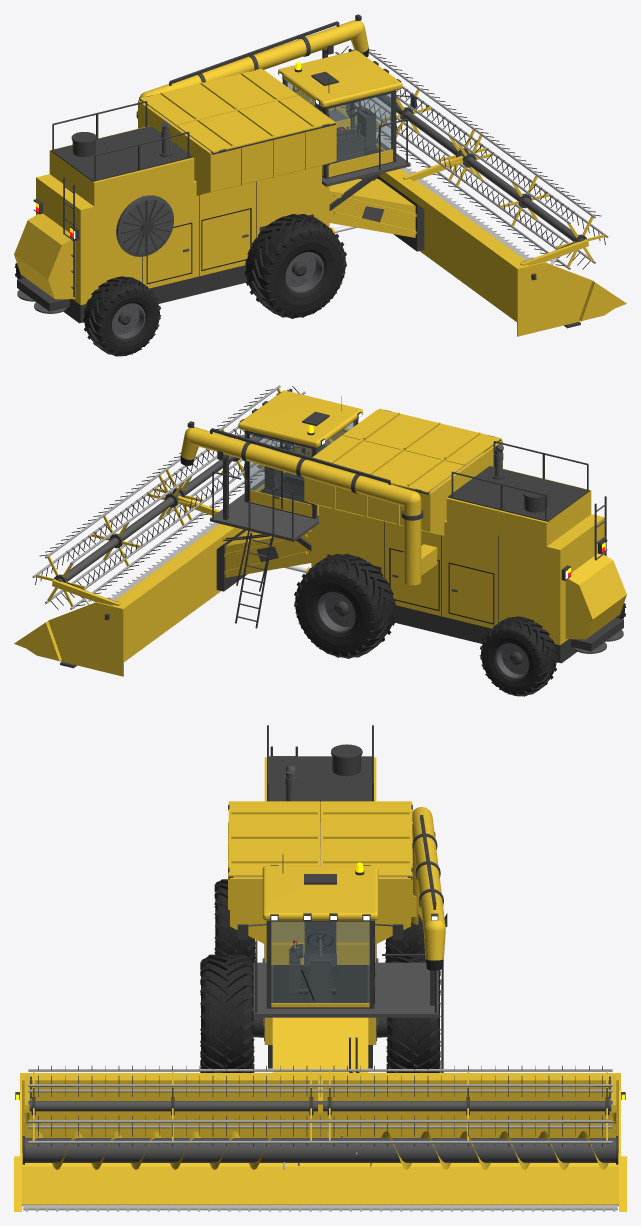
File: combine_harvester.glb
3 views of the same model, one above another, from view 1: azimuth 30°, elevation 25°; view 2: azimuth 150°, elevation 25°; view 3: azimuth 270°, elevation 25° (orthographic). The views are drawn at different scales.
Parts seen in each view (by area): view 1: chassis, header_tilt, cab, reel_spin, wheel_front_right_spin, grain_tank, wheel_rear_right_spin, grain_tank_lid_right_tilt, grain_tank_lid_left_tilt, unload_auger_rotate, reel_arm_tilt; view 2: chassis, header_tilt, cab, reel_spin, wheel_front_left_spin, grain_tank, unload_auger_rotate, wheel_rear_left_spin, grain_tank_lid_right_tilt, grain_tank_lid_left_tilt, reel_arm_tilt; view 3: header_tilt, cab, reel_spin, chassis, grain_tank_lid_right_tilt, grain_tank_lid_left_tilt, wheel_front_right_spin, grain_tank, unload_auger_rotate, wheel_front_left_spin, wheel_rear_right_spin, wheel_rear_left_spin (+1 smaller).
Boxes of the visible parts, <box> form: chassis: <box>14,45,333,323</box>; header_tilt: <box>298,93,626,336</box>; cab: <box>278,48,416,210</box>; reel_spin: <box>335,46,608,269</box>; wheel_front_right_spin: <box>244,214,346,318</box>; grain_tank: <box>136,70,336,195</box>; wheel_rear_right_spin: <box>83,276,161,356</box>; grain_tank_lid_right_tilt: <box>177,95,334,152</box>; grain_tank_lid_left_tilt: <box>140,68,297,125</box>; unload_auger_rotate: <box>138,14,368,100</box>; reel_arm_tilt: <box>291,88,588,265</box>; chassis: <box>217,441,626,663</box>; header_tilt: <box>14,433,342,676</box>; cab: <box>210,388,362,628</box>; reel_spin: <box>32,385,305,609</box>; wheel_front_left_spin: <box>294,554,396,658</box>; grain_tank: <box>304,410,502,585</box>; unload_auger_rotate: <box>180,421,421,515</box>; wheel_rear_left_spin: <box>479,616,557,696</box>; grain_tank_lid_right_tilt: <box>343,408,500,465</box>; grain_tank_lid_left_tilt: <box>309,435,463,492</box>; reel_arm_tilt: <box>52,428,349,605</box>; header_tilt: <box>14,1017,626,1211</box>; cab: <box>237,854,443,1072</box>; reel_spin: <box>28,1065,612,1146</box>; chassis: <box>253,725,447,1068</box>; grain_tank_lid_right_tilt: <box>228,801,319,876</box>; grain_tank_lid_left_tilt: <box>321,801,412,876</box>; wheel_front_right_spin: <box>200,954,254,1072</box>; grain_tank: <box>228,802,435,944</box>; unload_auger_rotate: <box>412,807,445,970</box>; wheel_front_left_spin: <box>386,956,440,1072</box>; wheel_rear_right_spin: <box>214,879,255,973</box>; wheel_rear_left_spin: <box>385,922,424,962</box>.
Bounding box in the file's own units: 10.47 × 4.3 × 9.34.
Materials: 18 (18 with a texture image).
